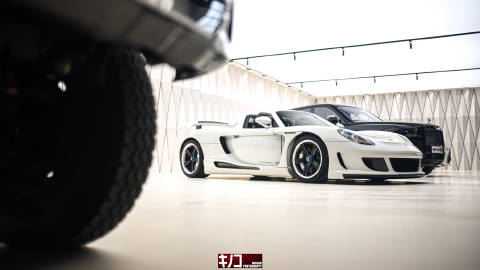other: (173, 108, 428, 187)
